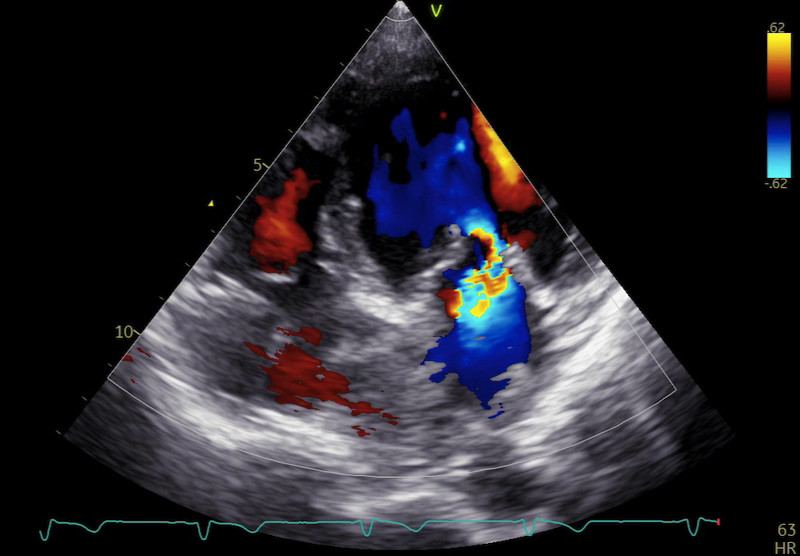MR: (402, 209, 527, 317)
